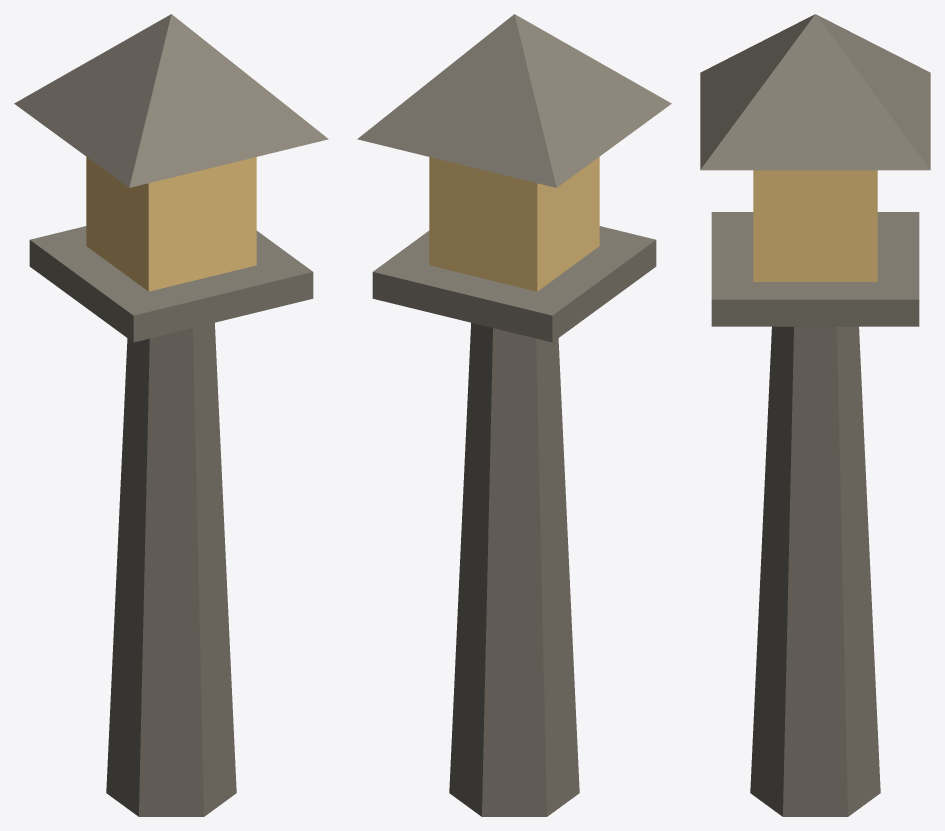
File: lantern.glb
3 renders of one model, left to right at view 1: azimuth 30°, elevation 25°; view 2: azimuth 150°, elevation 25°; view 3: azimuth 270°, elevation 25°, orthographic.
Visible parts, largest first — view 1: Lantern; view 2: Lantern; view 3: Lantern.
Part boxes in pixels (x1,y1,x2,y2): Lantern: (14, 14, 328, 816); Lantern: (357, 14, 671, 816); Lantern: (700, 14, 930, 816).
Bounding box in the file's own units: 0.7778 × 2.9 × 0.7778.
